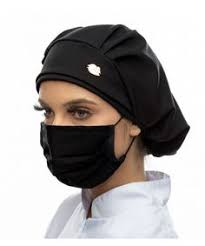with_mask_and_cap: (36, 27, 143, 189)
